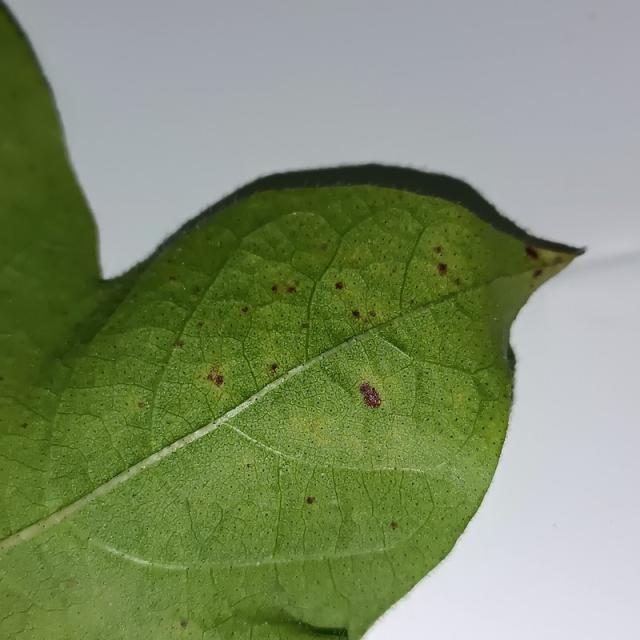Bacterial_Blight: (354, 378, 387, 416), (268, 279, 299, 297), (351, 306, 379, 325), (205, 367, 226, 389), (525, 245, 539, 259), (267, 363, 281, 377), (360, 383, 371, 396), (437, 263, 448, 274), (304, 495, 316, 505), (533, 269, 543, 278), (335, 281, 344, 290), (352, 310, 361, 319)
Cotton: (0, 2, 582, 639)
